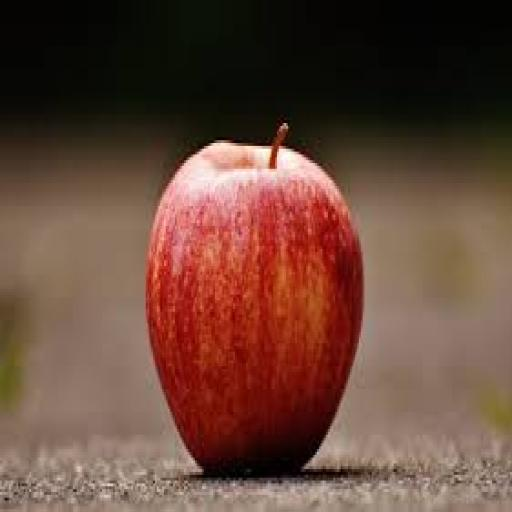apple: (146, 126, 362, 471)
